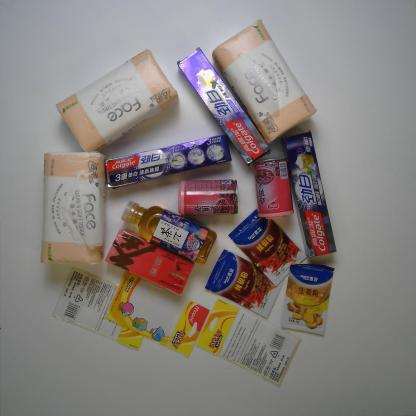Canned Food: (245, 155, 300, 223), (171, 174, 246, 218)
Drink: (118, 198, 219, 266)
Instant Drink: (103, 226, 197, 299)
Personal Hygiene: (173, 44, 276, 169), (272, 124, 341, 261), (100, 128, 235, 192)
Seasoner: (225, 204, 310, 288), (202, 247, 288, 322), (279, 259, 336, 339)
Stationery: (193, 293, 304, 390), (100, 267, 212, 361), (48, 265, 148, 355)
Tissue: (206, 16, 322, 147), (48, 45, 183, 155), (35, 148, 113, 272)
